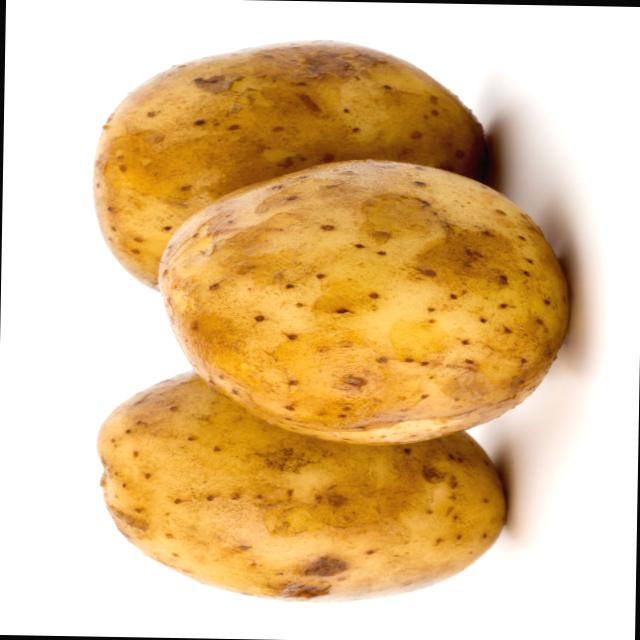potato: (158, 154, 564, 446), (90, 366, 512, 610), (95, 33, 488, 292)
